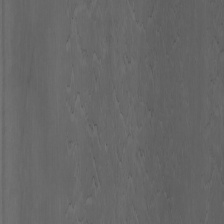silk_spot: (61, 7, 177, 215)
